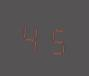five: (44, 20, 68, 58)
four: (19, 17, 43, 55)
